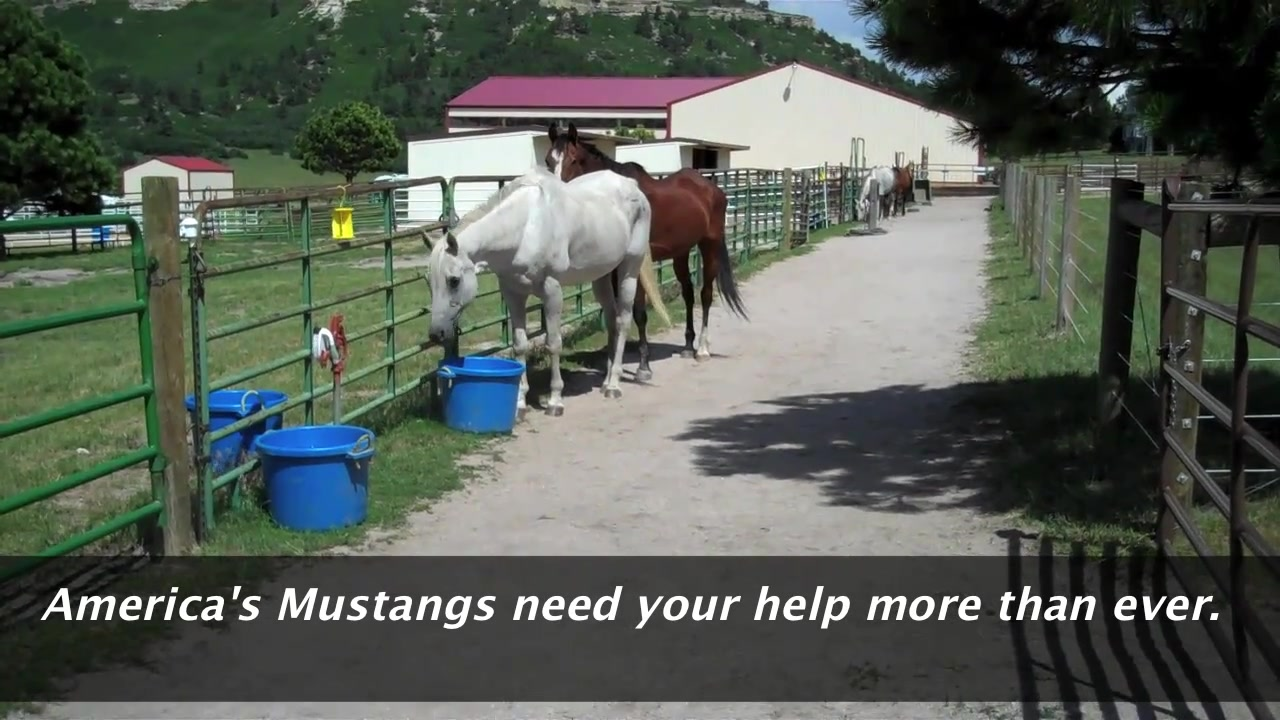horse: (420, 174, 677, 417), (540, 121, 752, 363), (855, 162, 902, 224), (890, 163, 918, 219)
